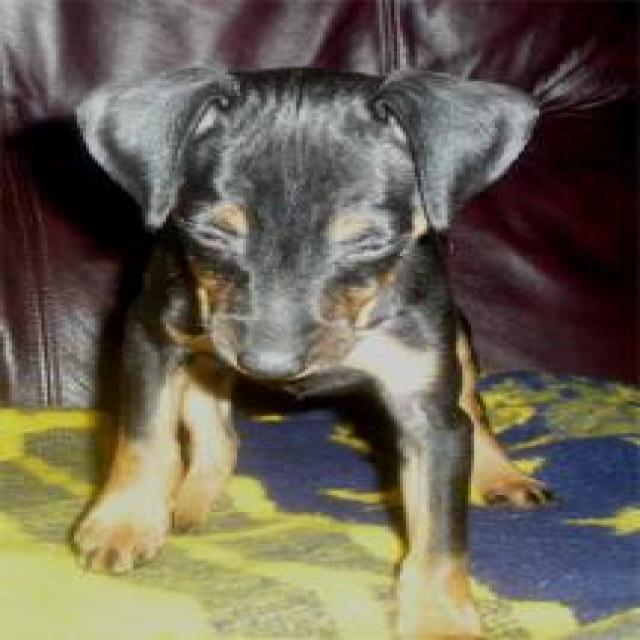dog-miniature_pinscher: (41, 62, 578, 636)
